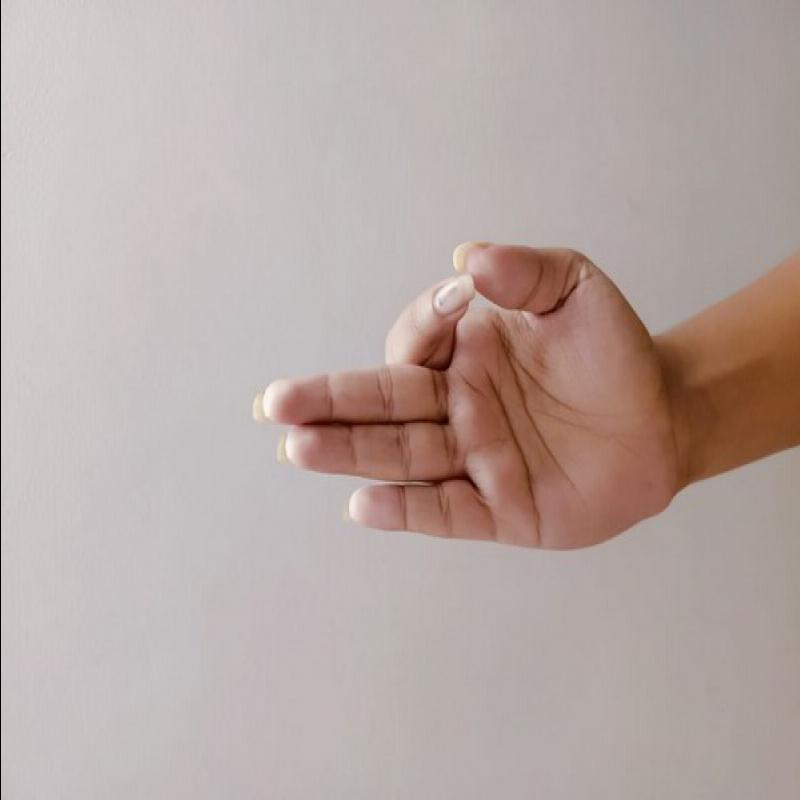Mudraakhyam: (241, 227, 697, 571)
